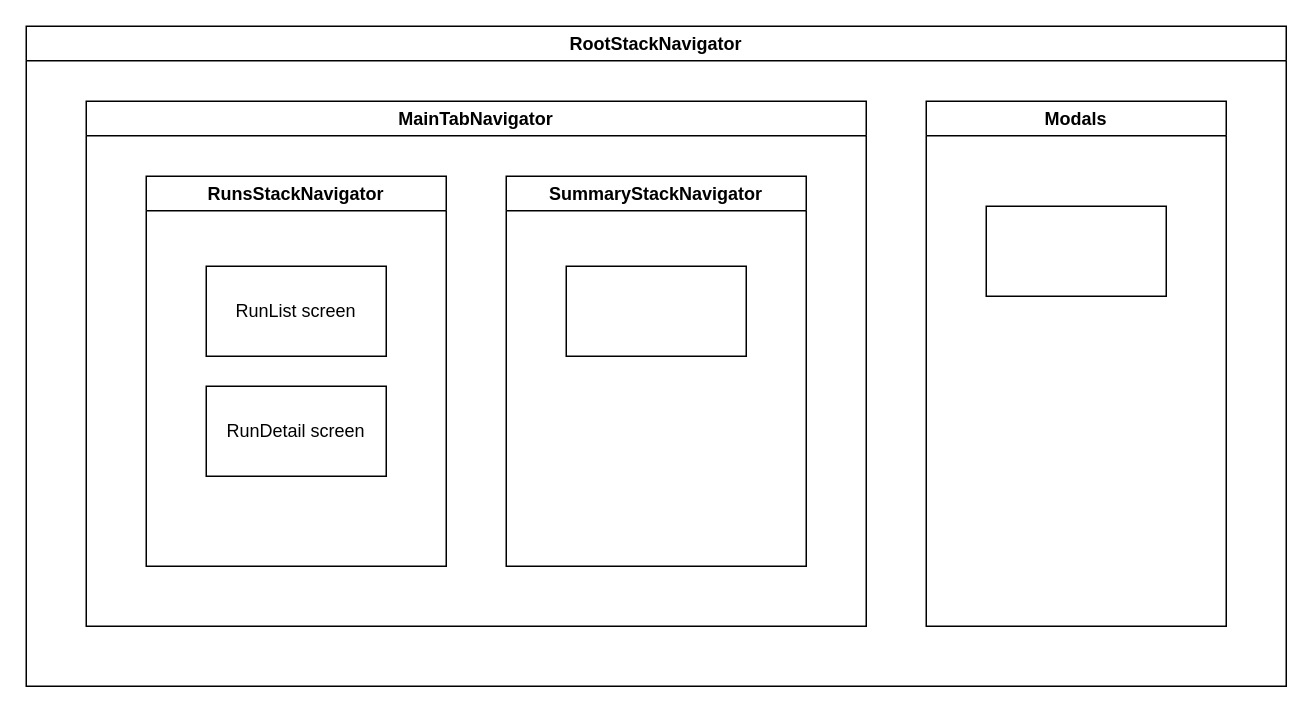
The diagram is 1313 pixels wide and 713 high, and some of its shapes have lost their labels. The shapes that lost their labels are listed below. From the top down, each one's centre as x and y in pixels, then its label:
At point (1075, 250): "RunCreation modal".
At point (655, 310): "Summary screen".
